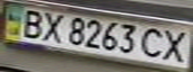2: (81, 17, 103, 50)
3: (118, 21, 142, 55)
6: (100, 20, 121, 52)
8: (63, 15, 87, 47)
B: (15, 7, 48, 39)
C: (136, 26, 169, 61)
X: (157, 27, 193, 64), (36, 10, 69, 44)
